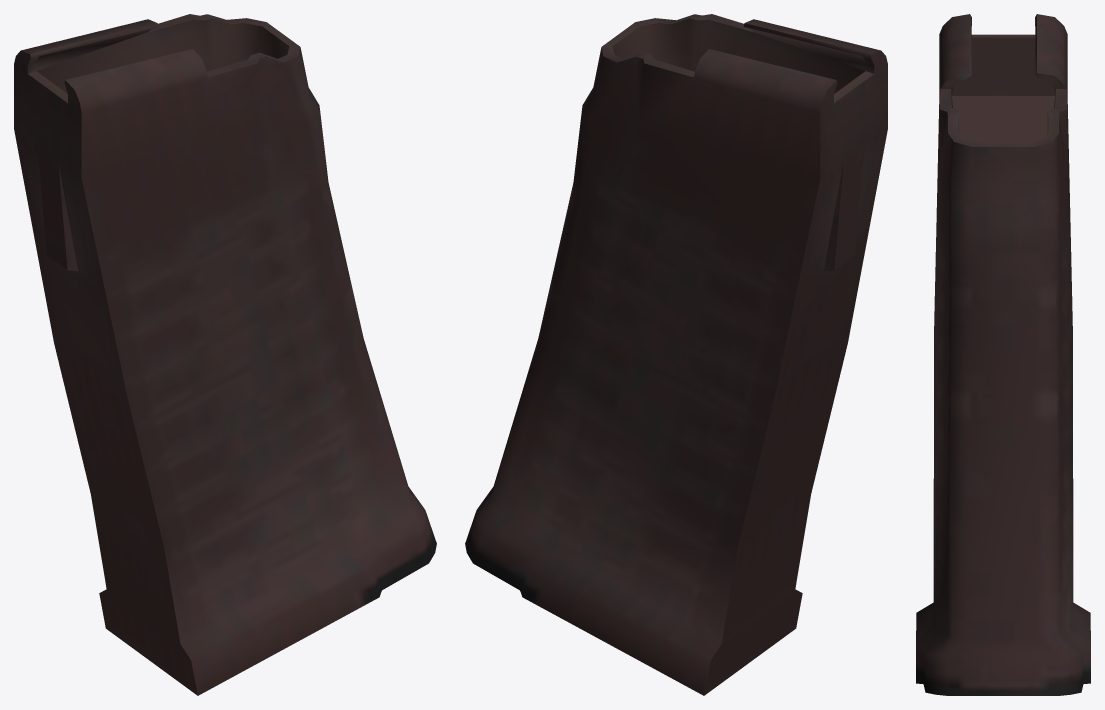
The model's file is ST_MAG_EX_VSS.FBX.
3 views of the same model, side by side, from view 1: azimuth 30°, elevation 25°; view 2: azimuth 150°, elevation 25°; view 3: azimuth 270°, elevation 25° (orthographic). The views are drawn at different scales.
Parts seen in each view (by area): view 1: ST_MAG_EX_VSS; view 2: ST_MAG_EX_VSS; view 3: ST_MAG_EX_VSS.
Boxes of the visible parts, x1,y1,x2,y2 form: ST_MAG_EX_VSS: (14, 14, 436, 695); ST_MAG_EX_VSS: (465, 14, 887, 695); ST_MAG_EX_VSS: (916, 14, 1090, 695).
Bounding box in the file's own units: 8.2 × 13.51 × 3.64.
Materials: 1 (1 with a texture image).
